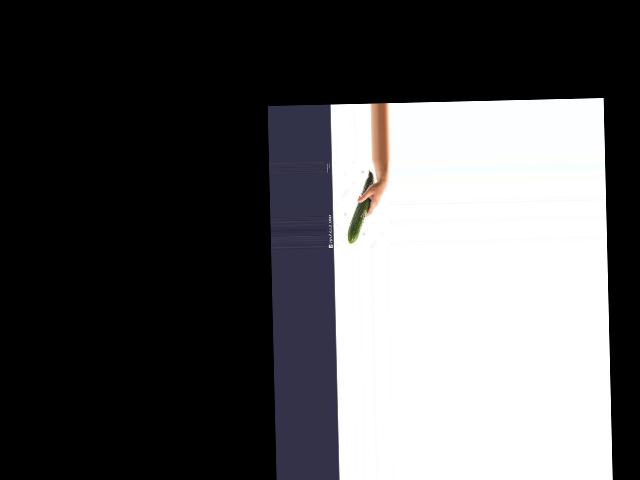cucumber: (345, 169, 375, 243)
